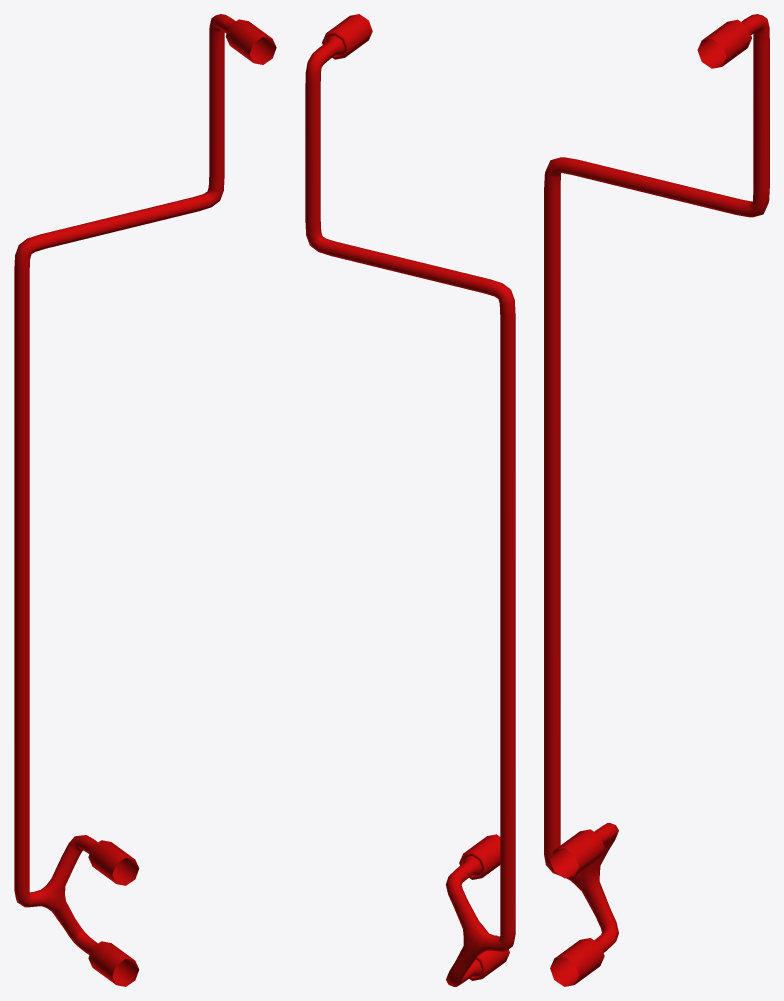
File: Wire_Head_Red(5VDC-+V0&+1).obj
The picture shows the model from 3 angles, left to right: view 1: azimuth 30°, elevation 25°; view 2: azimuth 150°, elevation 25°; view 3: azimuth 330°, elevation 25°; orthographic projection. The views are drawn at different scales.
Visible parts, largest first — view 1: Wire_Head_Red(5VDC-+V0&+1); view 2: Wire_Head_Red(5VDC-+V0&+1); view 3: Wire_Head_Red(5VDC-+V0&+1).
Boxes of the visible parts, x1,y1,x2,y2 form: Wire_Head_Red(5VDC-+V0&+1): (14,14,276,986); Wire_Head_Red(5VDC-+V0&+1): (305,14,515,986); Wire_Head_Red(5VDC-+V0&+1): (544,14,769,986).
Bounding box in the file's own units: 0.0479 × 0.195 × 0.0194.
